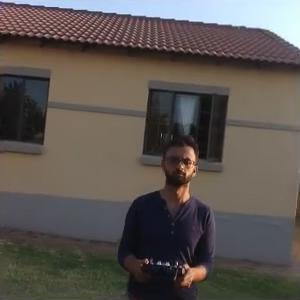follow: (112, 129, 219, 298)
